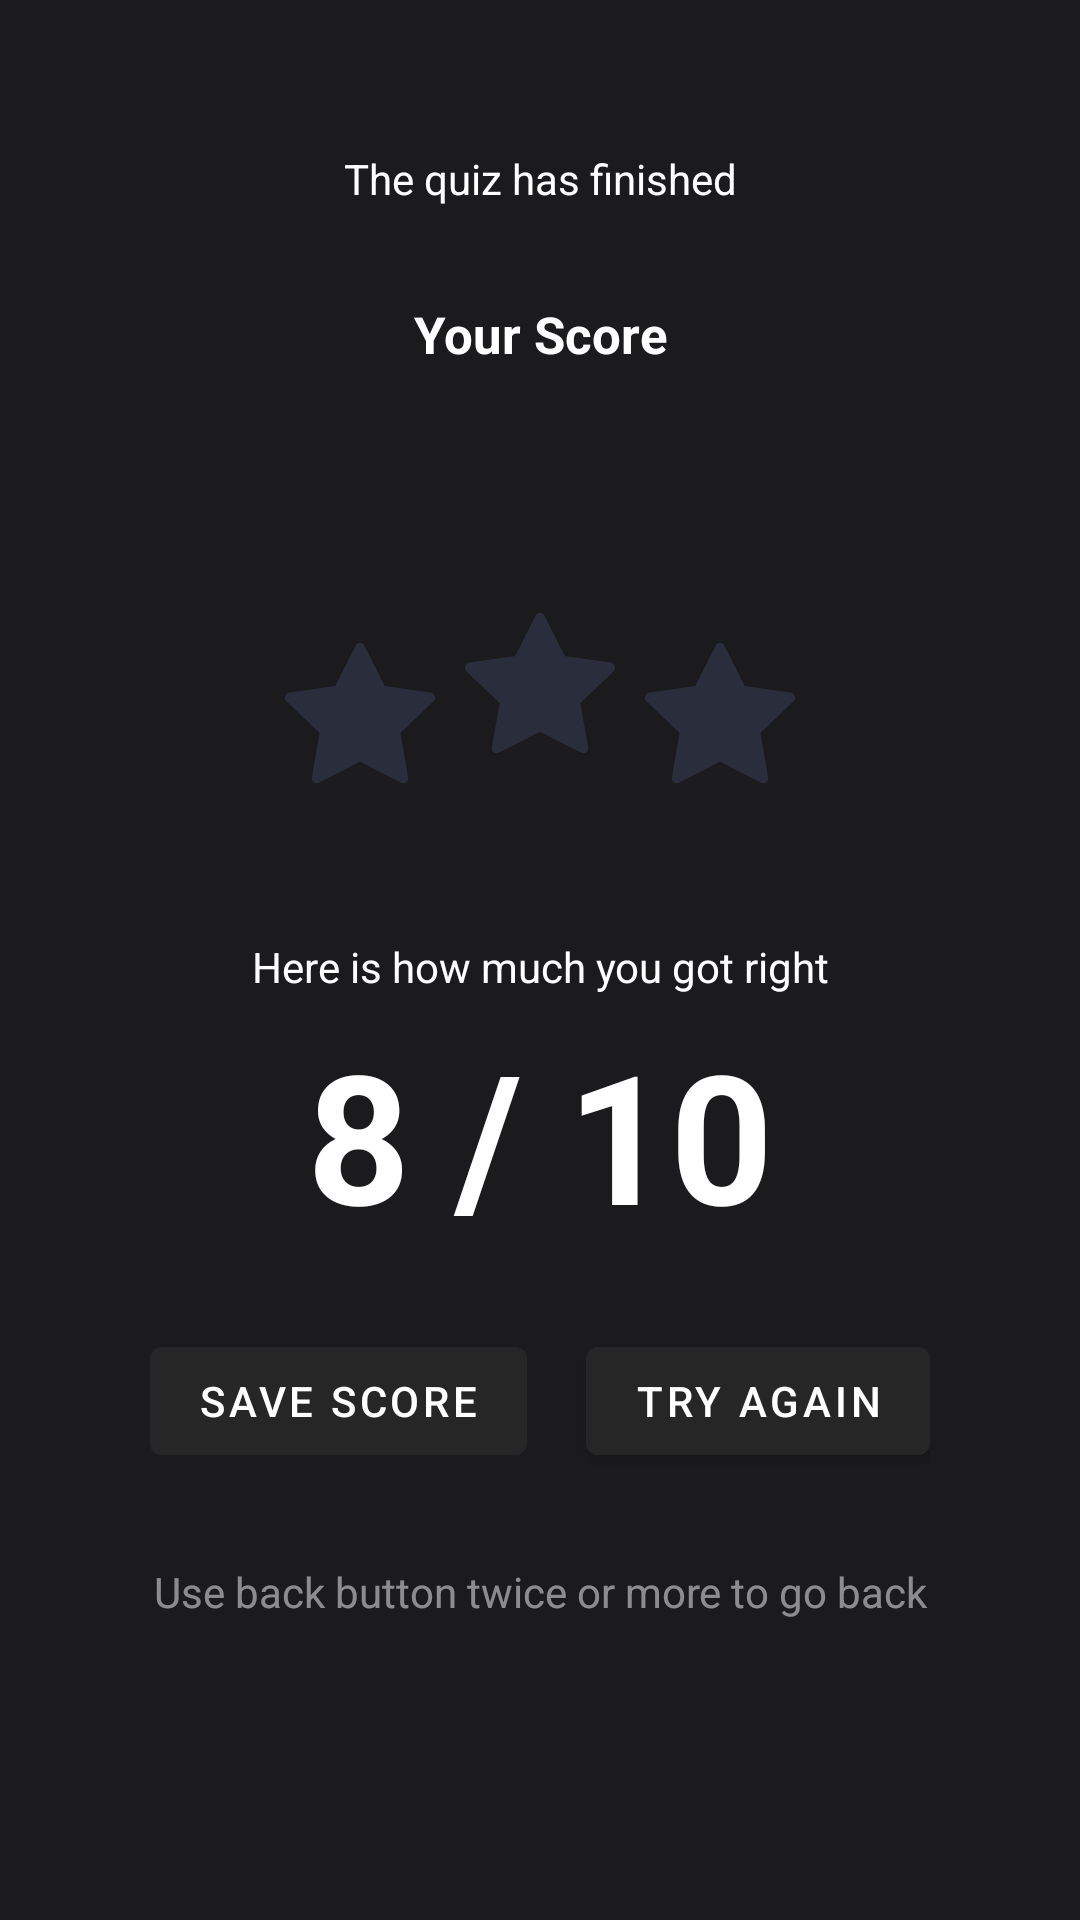

Icon bounding boxes for this 1080px×1920px phone screenshot, format box(x1, y1, x2, y2):
star: box(465, 613, 615, 753), box(285, 643, 435, 783), box(645, 643, 795, 783)
